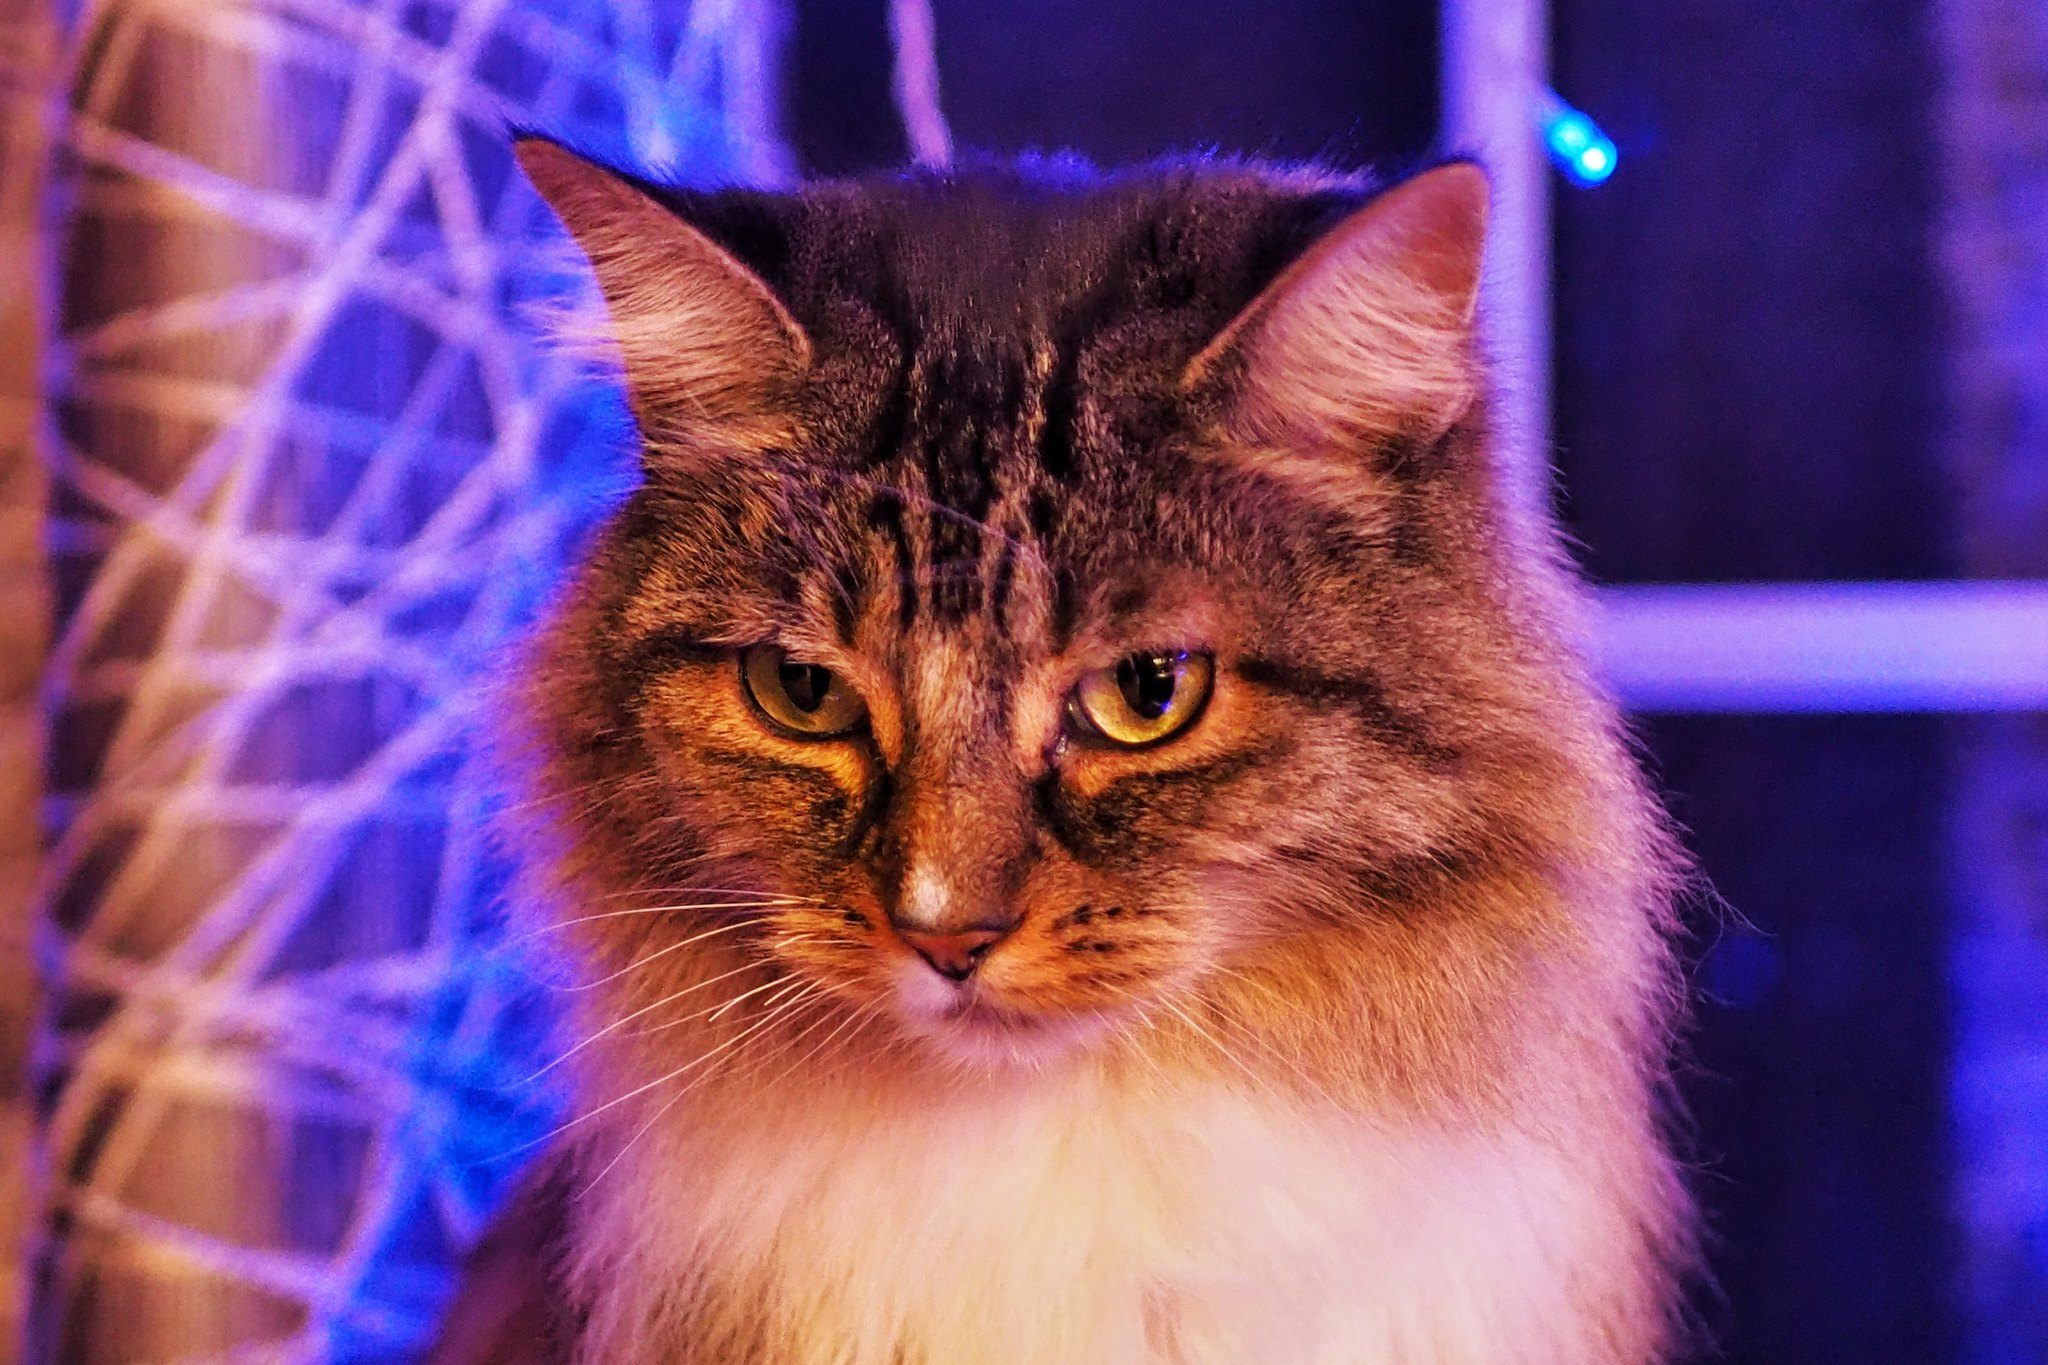cat: (480, 101, 1731, 1365)
